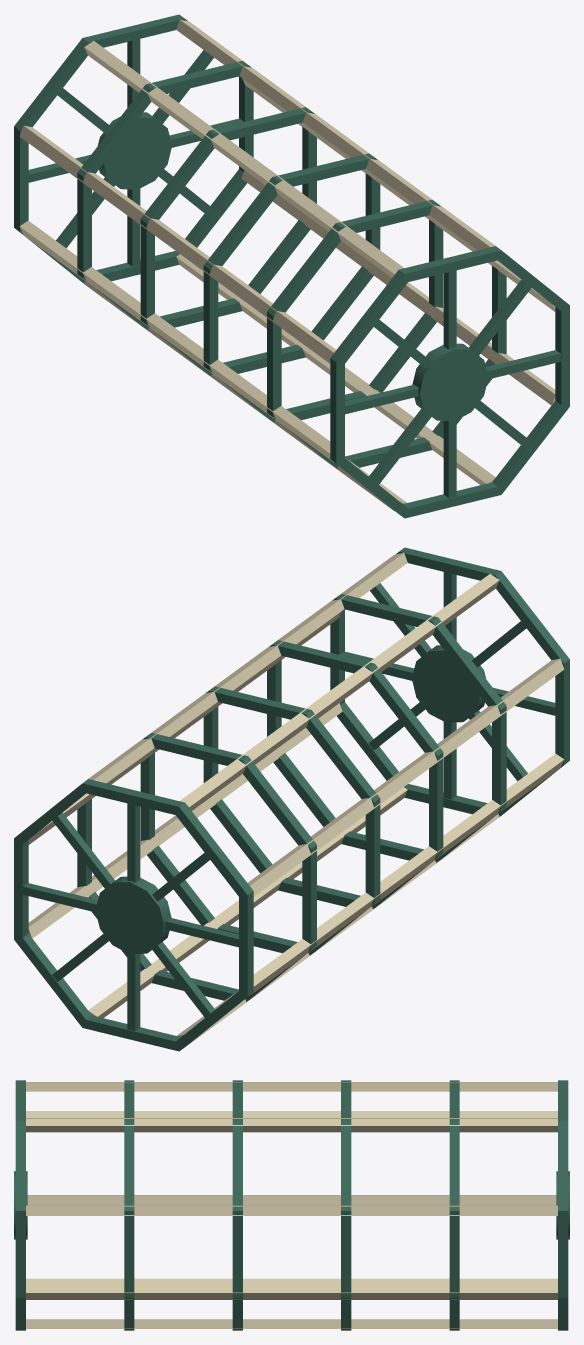
The model's file is tank4200_frame.obj.
3 views of the same model, one above another, from view 1: azimuth 30°, elevation 25°; view 2: azimuth 150°, elevation 25°; view 3: azimuth 270°, elevation 25° (orthographic). The views are drawn at different scales.
Visible parts, largest first — view 1: tank4200_frame; view 2: tank4200_frame; view 3: tank4200_frame.
Boxes of the visible parts, box(x1,y1,x2,y2) form: tank4200_frame: box(14, 14, 569, 518); tank4200_frame: box(14, 547, 569, 1051); tank4200_frame: box(14, 1080, 569, 1330).
Bounding box in the file's own units: 13.59 × 13.59 × 32.55.
